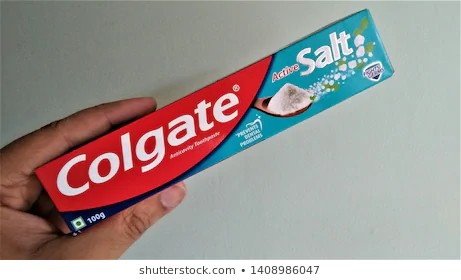colgate-small: (54, 8, 391, 239)
